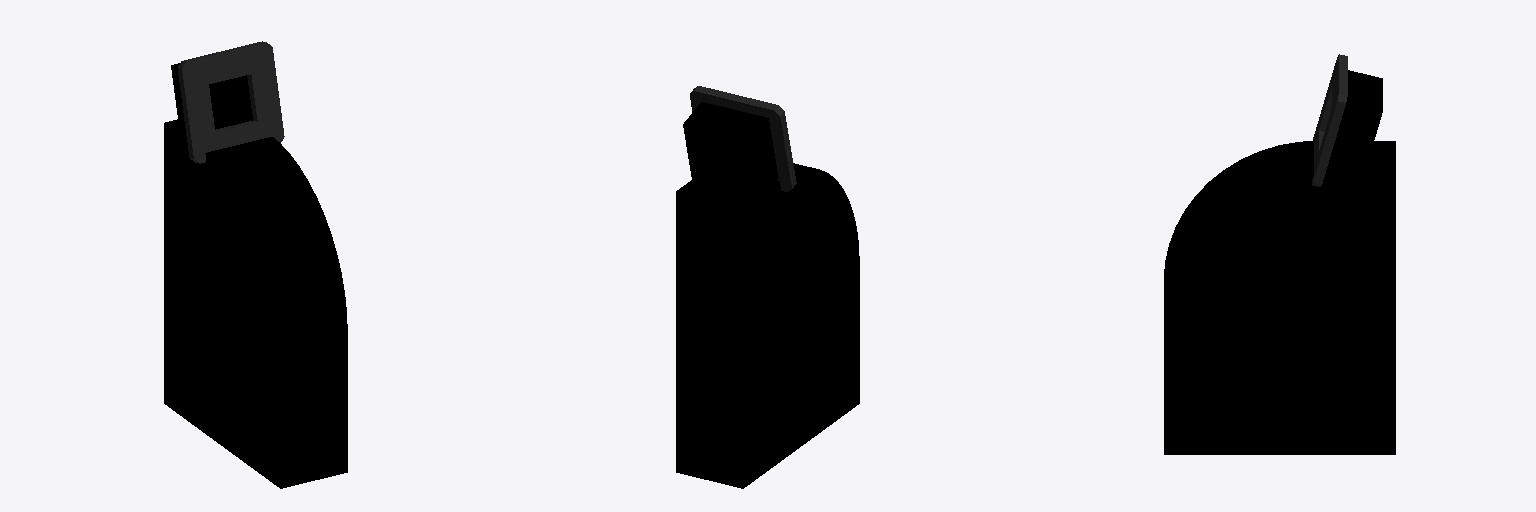
Rendered from ThrottleMeterEmpty.obj.
The picture shows the model from 3 angles: view 1: azimuth 30°, elevation 25°; view 2: azimuth 150°, elevation 25°; view 3: azimuth 270°, elevation 25°; orthographic projection.
Visible parts, largest first — view 1: mergedBlocks; view 2: mergedBlocks; view 3: mergedBlocks.
Boxes of the visible parts, <box> form: mergedBlocks: <box>164,41,347,488</box>; mergedBlocks: <box>676,86,859,488</box>; mergedBlocks: <box>1164,54,1395,454</box>.
Size of the model in its own units: 1.35 by 5.18 by 3.